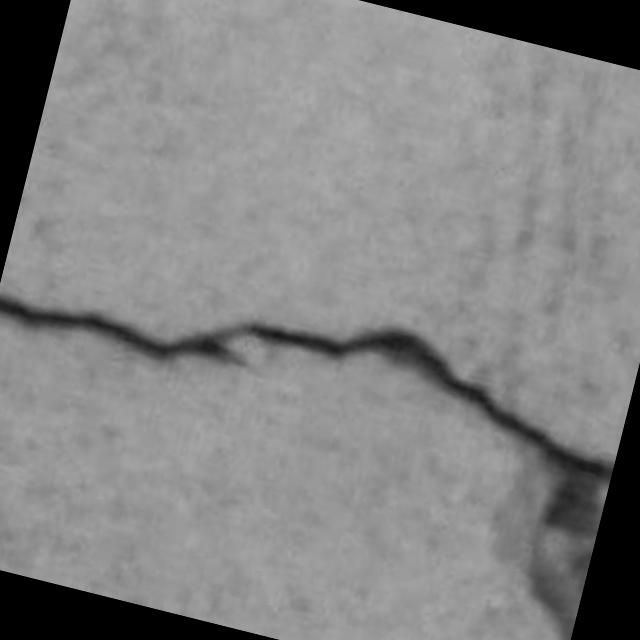crack: (0, 296, 613, 480), (499, 463, 608, 640)
